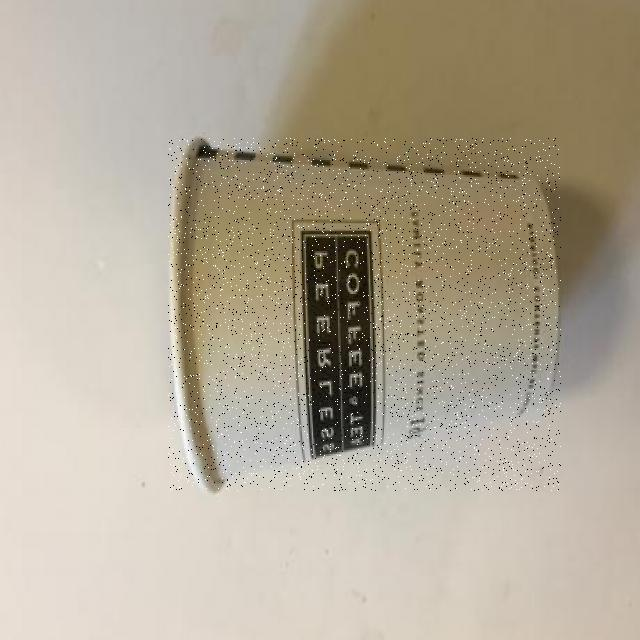paper: (168, 138, 561, 491)
